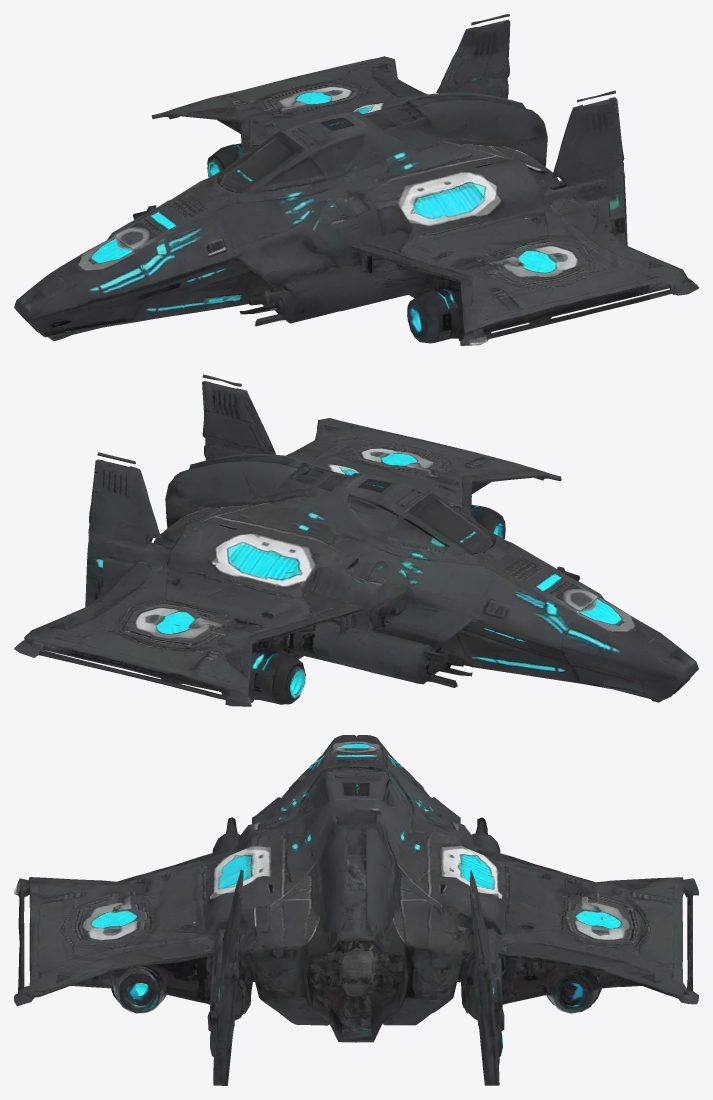
Rendered from ship3.glb.
3 views of the same model, one above another, from view 1: azimuth 30°, elevation 25°; view 2: azimuth 150°, elevation 25°; view 3: azimuth 270°, elevation 25° (orthographic). The views are drawn at different scales.
Size of the model in its own units: 1.89 by 0.6027 by 1.9.
1 material, 1 textured.
